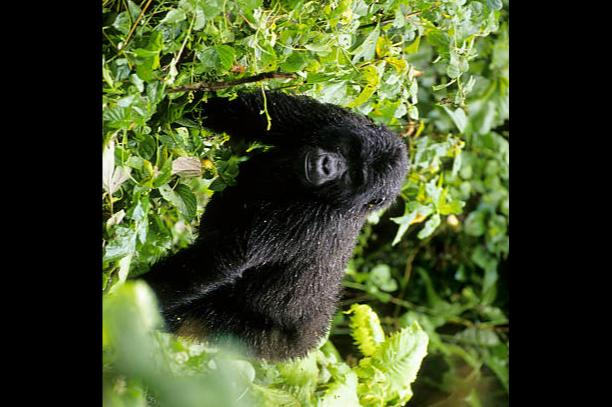goriile_montagne: (158, 94, 402, 359)
